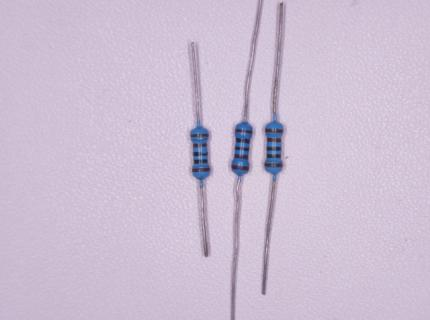Black band: (236, 138, 250, 144), (235, 147, 249, 152), (267, 146, 281, 151), (194, 152, 208, 156), (194, 160, 208, 164), (267, 154, 281, 158)
Brown band: (232, 165, 249, 171), (265, 128, 283, 133), (235, 129, 253, 134), (193, 142, 207, 148), (235, 154, 248, 160), (190, 133, 209, 137), (265, 163, 283, 167), (192, 168, 210, 172), (267, 138, 281, 142)
